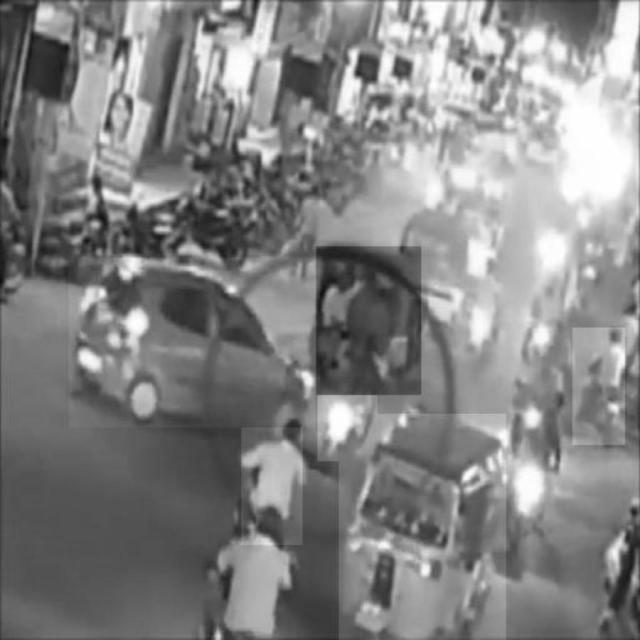vehicle: (69, 258, 315, 428), (339, 414, 506, 640), (317, 246, 421, 394), (319, 328, 379, 460), (241, 419, 302, 545), (573, 327, 625, 445)
